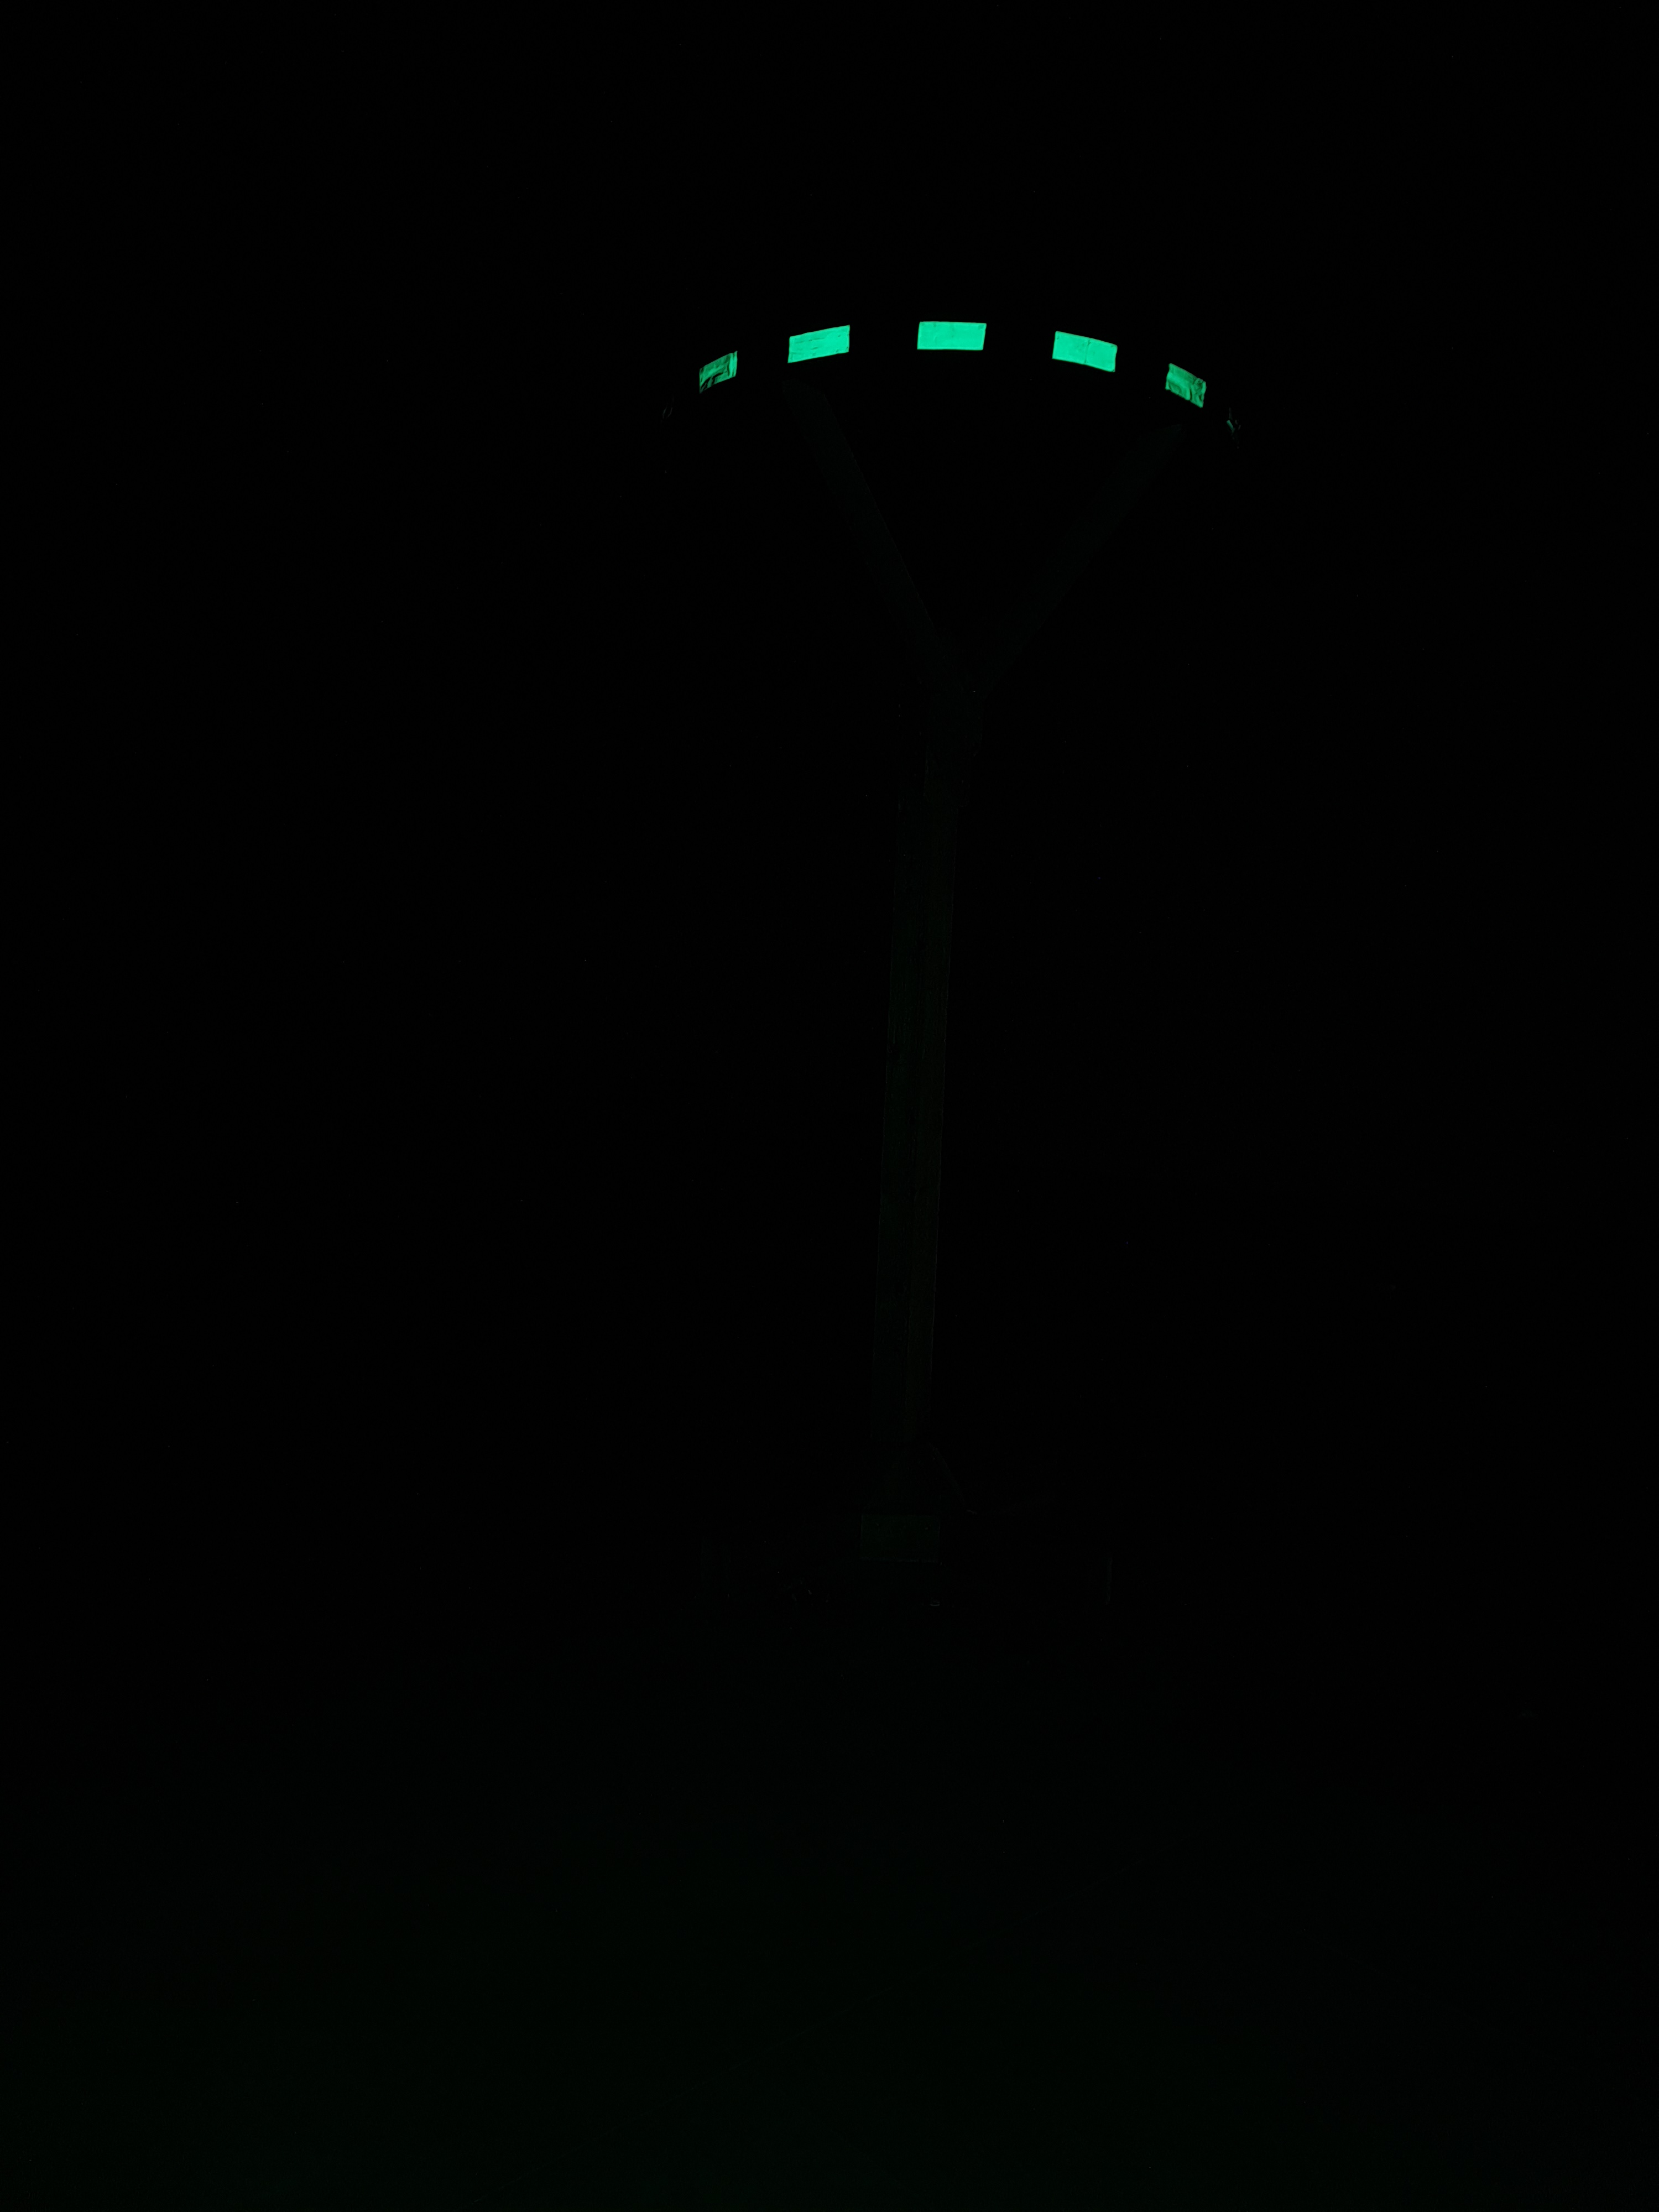hoop: (697, 312, 1208, 413)
